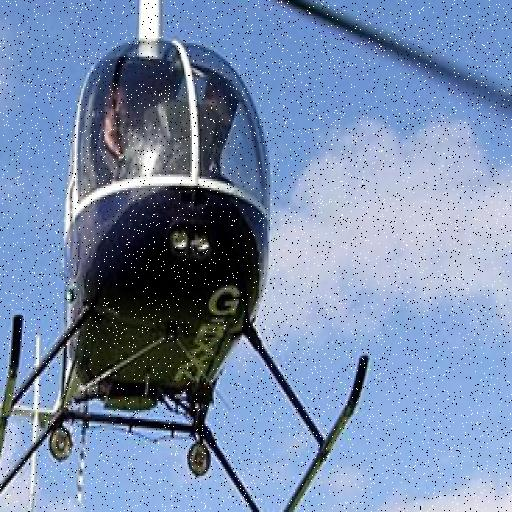helicopter: (1, 1, 368, 512)
